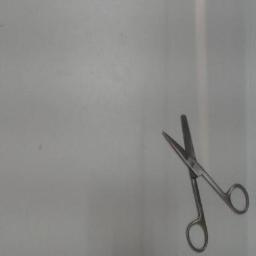Dressing Scissors: (156, 101, 252, 255)
